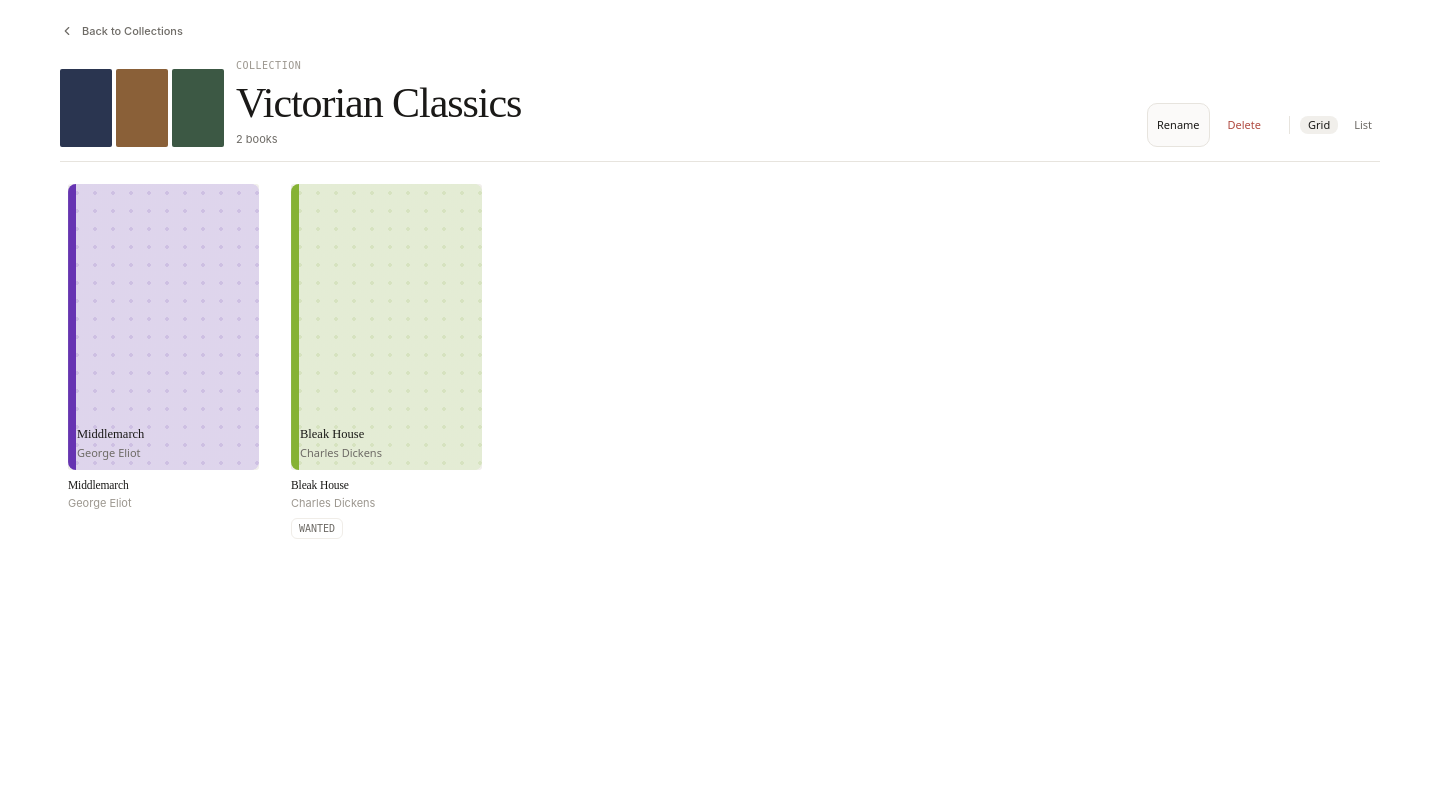
Test: CollectionDetail Screen › opens delete confirmation modal with specific copy and deletes on confirmation
Expected: the heading "Victorian Classics" is shown, top-left (236, 80), bottom-right (521, 126)
Click the button "Delete" at (1244,125), box top-left (1218, 103), bottom-right (1270, 147)
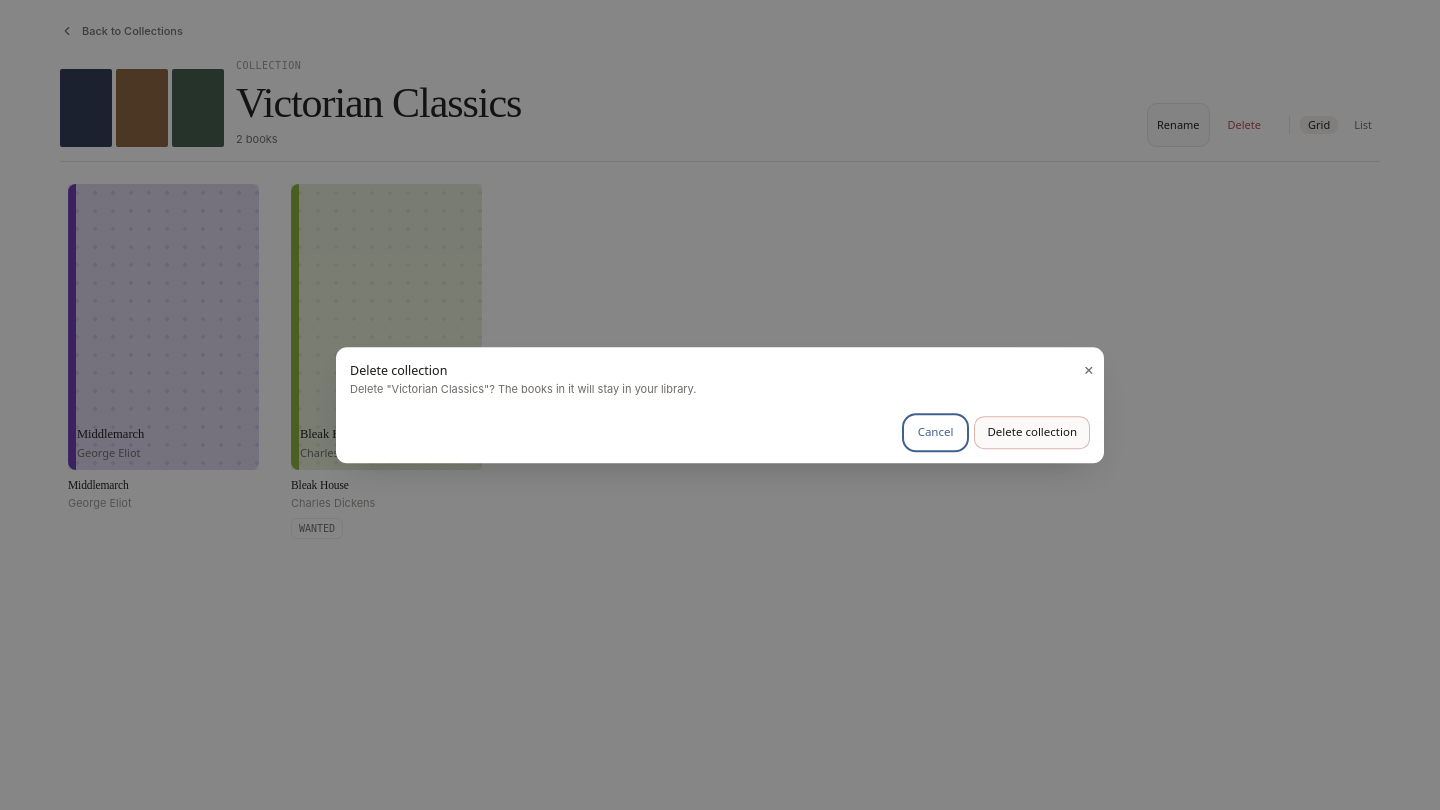
Result: the dialog is shown at top-left (336, 347), bottom-right (1104, 463)
Result: the text "Delete \"Victorian Classics\"? The books in it will stay in your library." is shown at top-left (350, 383), bottom-right (696, 397)
Click the button "Delete collection" at (1032,432), box top-left (974, 416), bottom-right (1090, 449)
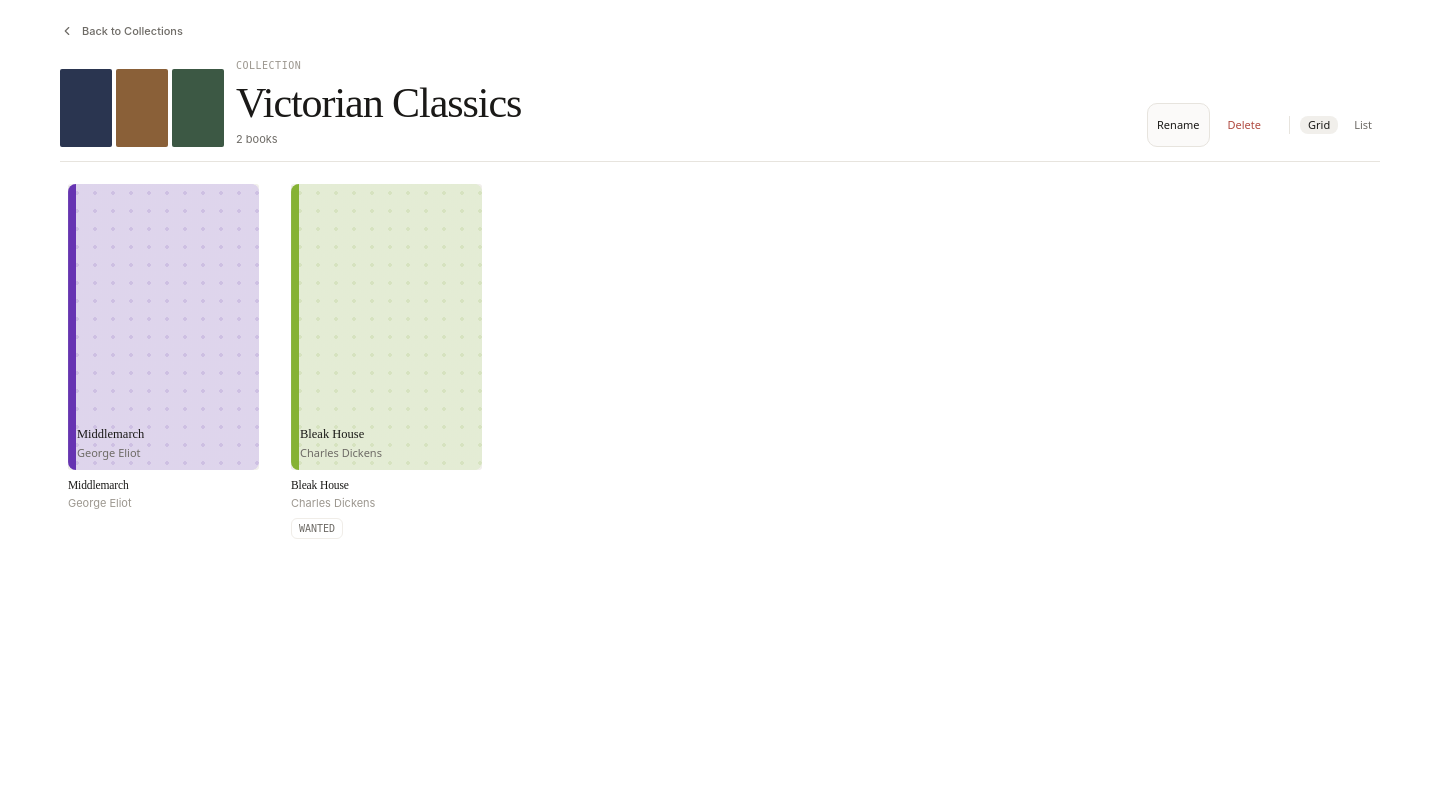
Result: the dialog is gone
